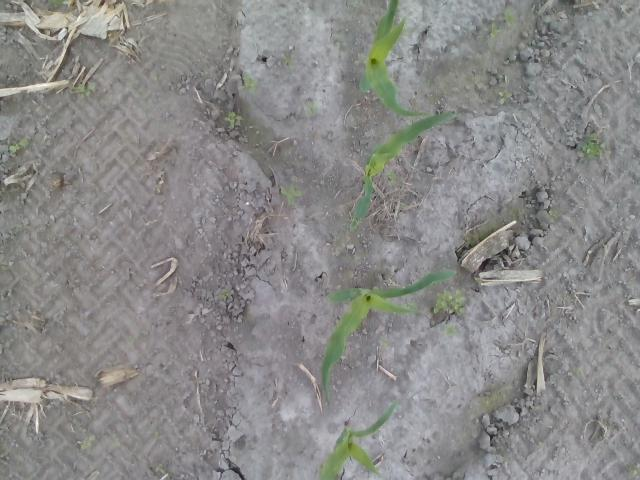Maize: (322, 269, 459, 404), (350, 111, 456, 232), (357, 0, 428, 118), (318, 400, 398, 480)
Weeds: (577, 132, 607, 162), (433, 288, 467, 313), (280, 183, 302, 207), (238, 73, 259, 94), (500, 7, 517, 27), (224, 111, 242, 128), (77, 83, 96, 99), (280, 53, 296, 69), (79, 434, 95, 450), (484, 22, 502, 36), (10, 138, 28, 152), (442, 322, 459, 336), (304, 100, 318, 116), (627, 460, 640, 477), (384, 170, 398, 184), (498, 90, 512, 104), (548, 210, 562, 222), (567, 366, 583, 376), (402, 300, 418, 310), (378, 334, 389, 348), (219, 288, 230, 298), (154, 464, 166, 473), (48, 0, 63, 7), (128, 334, 140, 342), (402, 27, 409, 36), (1, 264, 10, 270), (10, 224, 22, 228), (140, 35, 146, 42), (477, 278, 482, 284), (155, 434, 160, 440)
